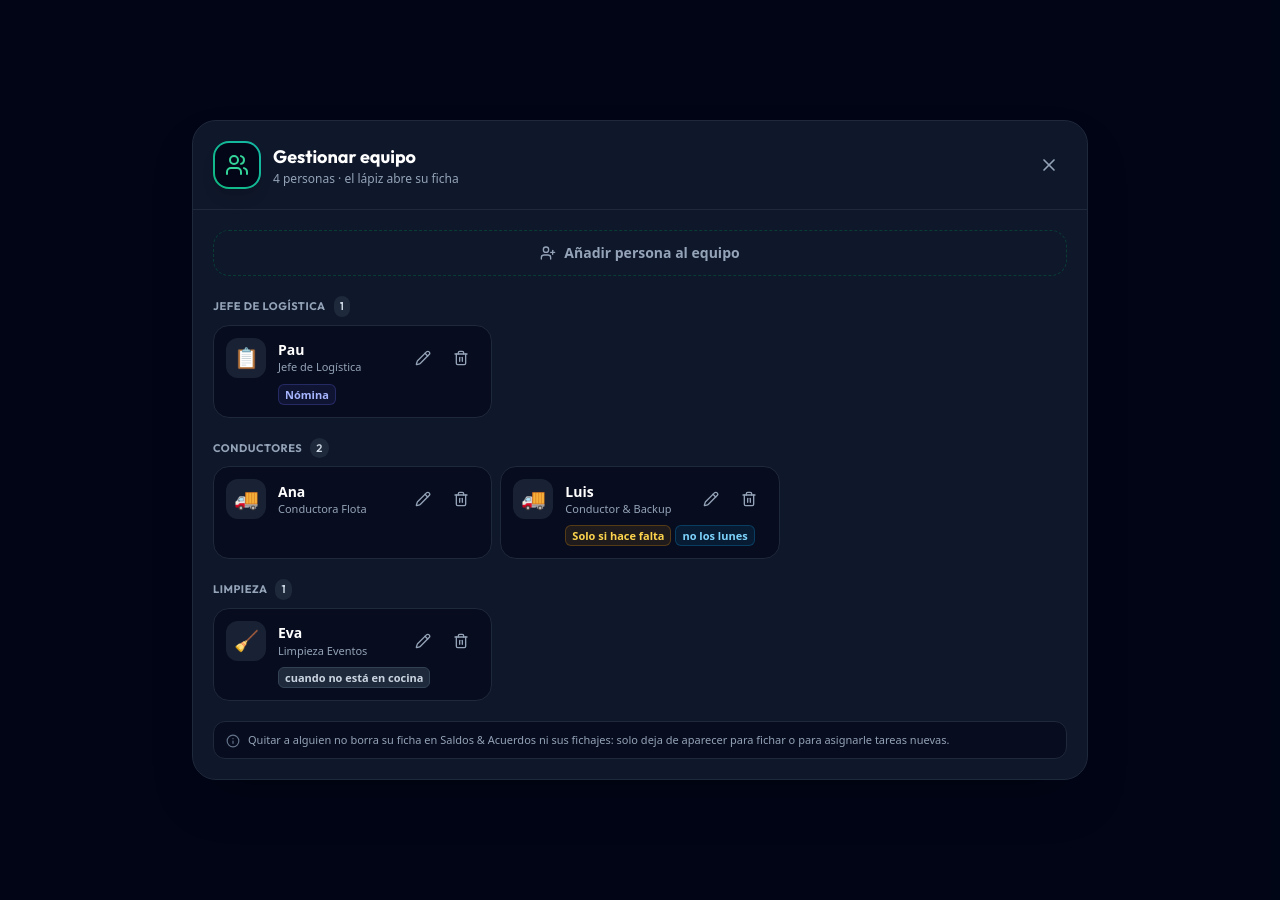
it: AdminWorkerEditorModal (Gestionar equipo) › el lápiz abre la ficha a todo el ancho, en lugar de la lista, y «Volver» regresa a ella
Click the button named "Editar la ficha de Ana" at [423, 499], box x1=405 y1=481 x2=441 y2=517
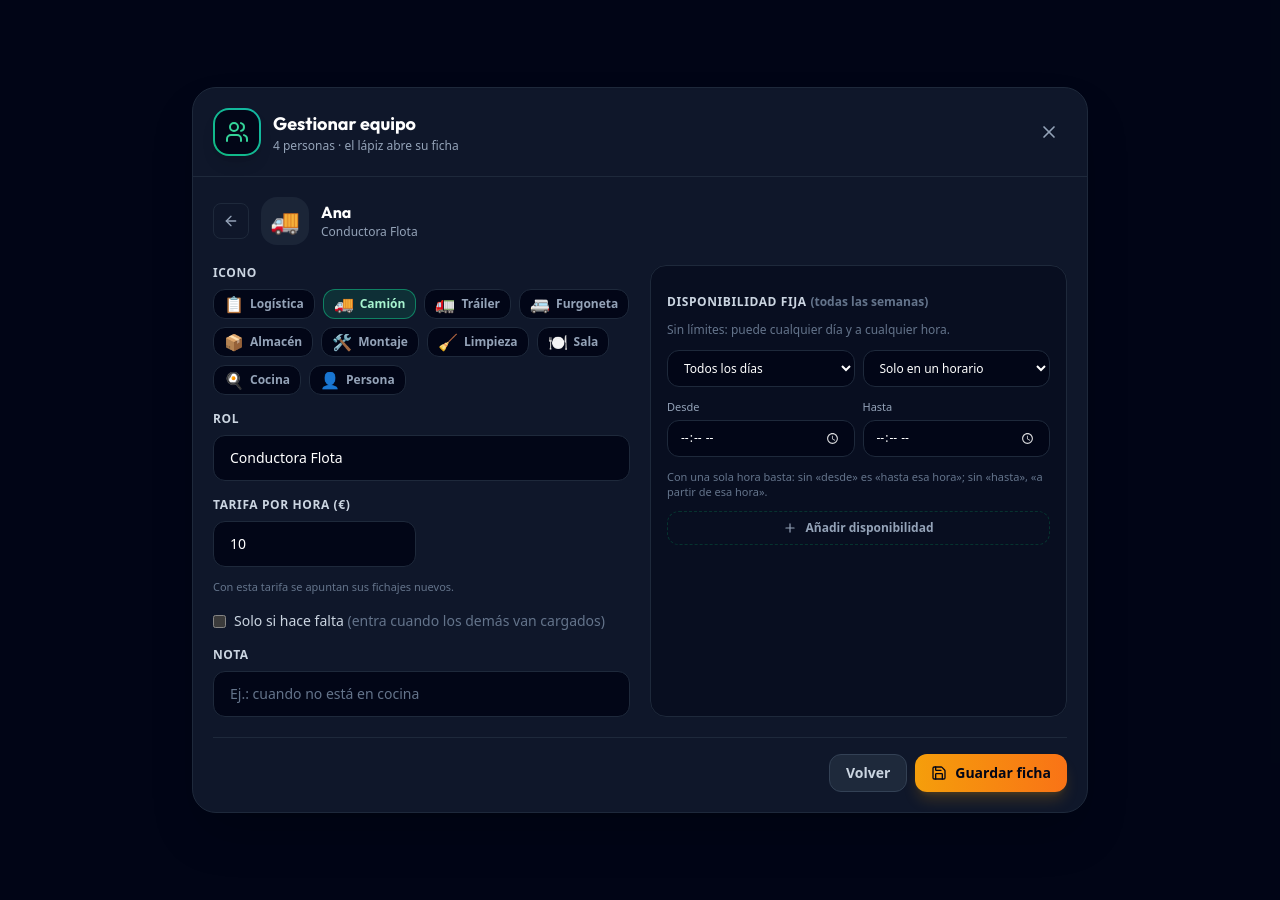
Result: the form named "Ficha de Ana" is shown at x1=213 y1=197 x2=1067 y2=792
Result: the field showing "Conductora Flota" is shown at x1=213 y1=435 x2=630 y2=481
Result: the heading "Conductores" is gone
Click the button "Volver" at [868, 773], box x1=829 y1=754 x2=907 y2=792
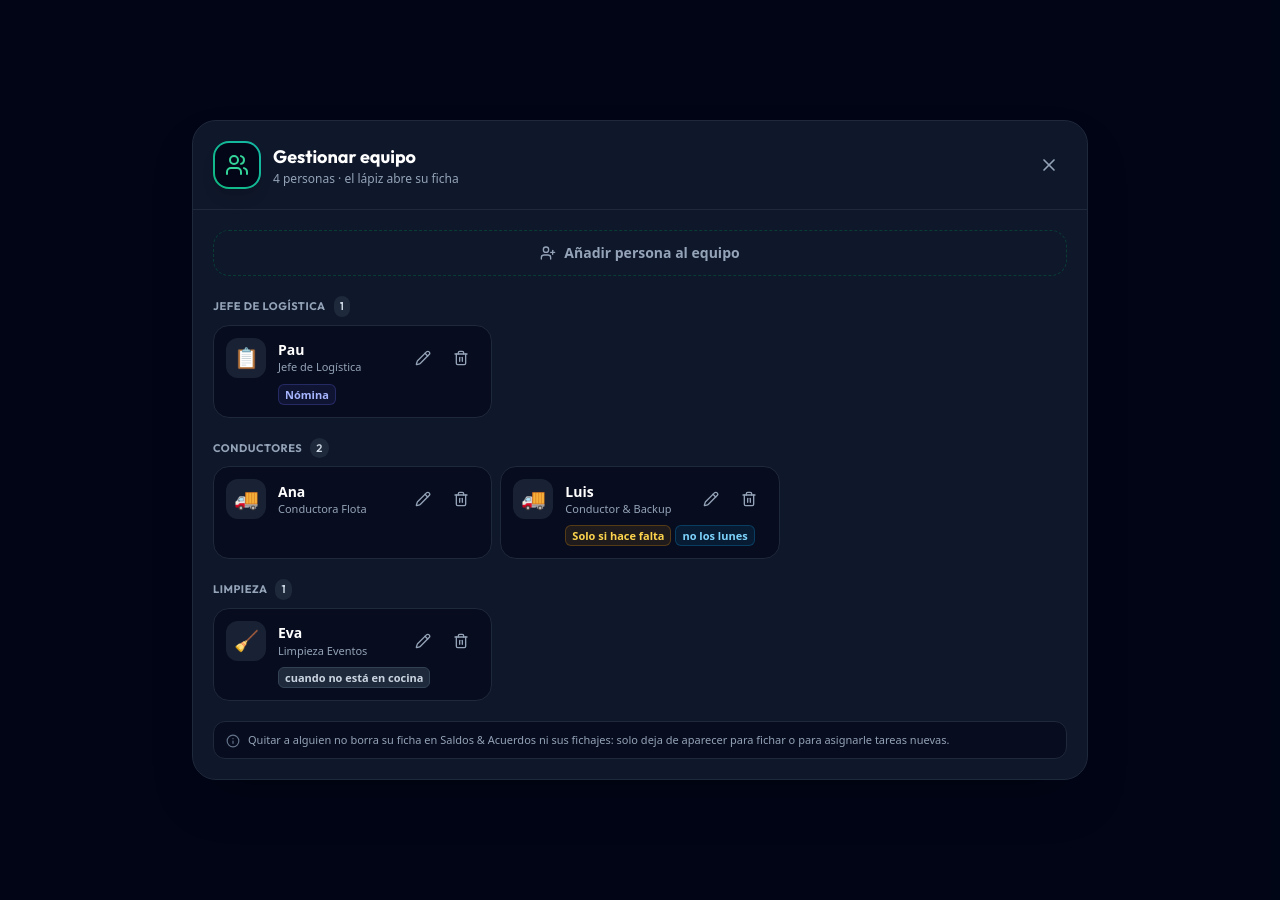
Result: the element "Conductores" is shown at x1=213 y1=438 x2=780 y2=559
